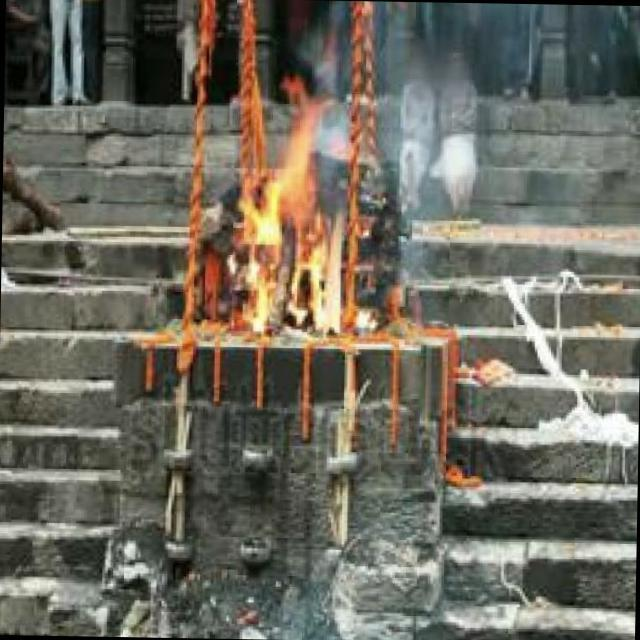Fire: (236, 99, 350, 337)
